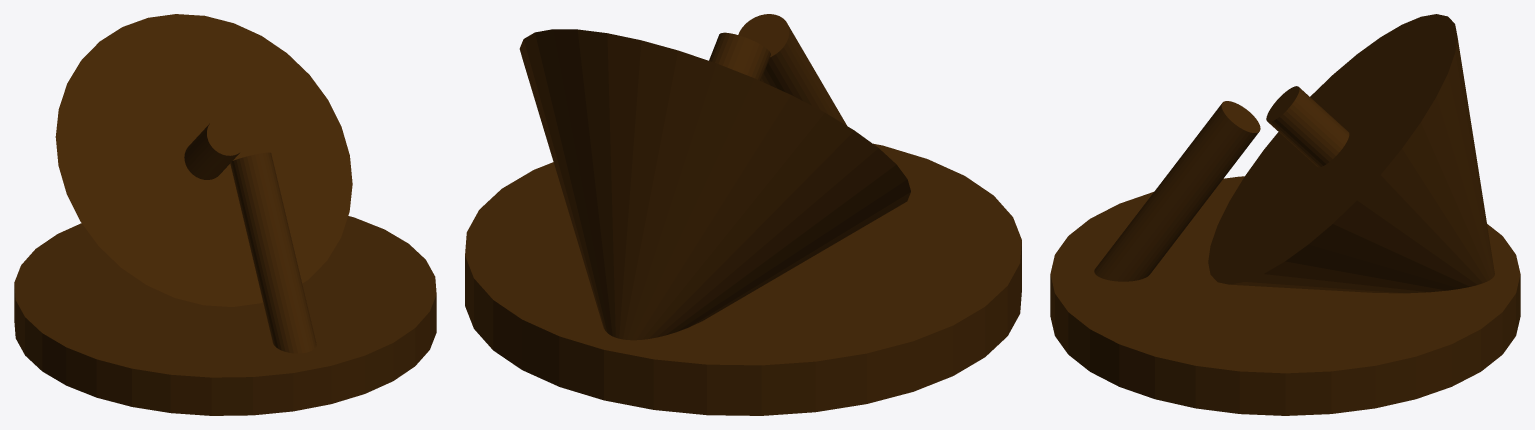
The model's file is broken_tree.dae.
3 renders of one model, left to right at view 1: azimuth 30°, elevation 25°; view 2: azimuth 150°, elevation 25°; view 3: azimuth 270°, elevation 25°, orthographic. The views are drawn at different scales.
Visible parts, largest first — view 1: Broken Tree; view 2: Broken Tree; view 3: Broken Tree.
Boxes of the visible parts, x1,y1,x2,y2 form: Broken Tree: (14, 14, 436, 415); Broken Tree: (465, 14, 1021, 415); Broken Tree: (1050, 14, 1520, 415).
Bounding box in the file's own units: 1000 × 1000 × 658.
